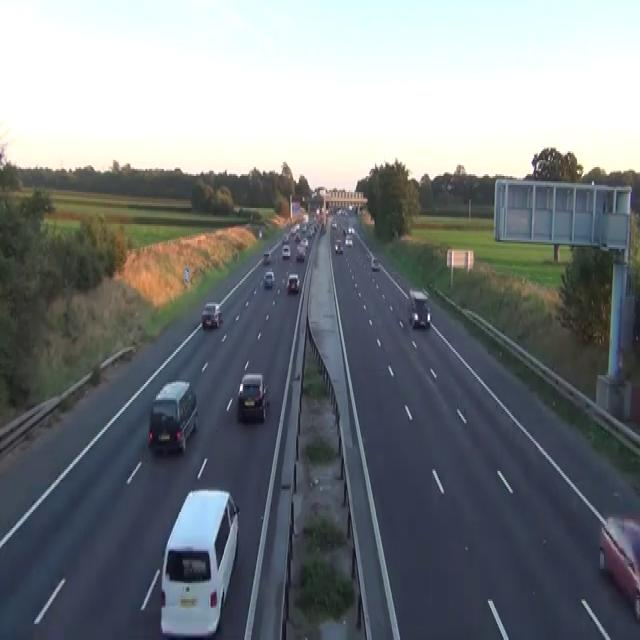Car: (159, 487, 239, 637), (598, 516, 639, 620), (148, 379, 198, 453), (237, 372, 268, 422), (408, 288, 430, 327), (201, 302, 222, 329), (286, 272, 299, 293), (263, 270, 274, 288), (296, 246, 305, 262), (290, 222, 300, 236), (43, 201, 56, 211), (334, 238, 343, 252), (281, 244, 290, 258), (371, 256, 379, 270), (300, 236, 308, 249), (263, 251, 270, 263), (345, 235, 353, 245), (282, 233, 289, 243), (331, 220, 337, 230), (301, 221, 307, 231), (446, 182, 453, 190), (321, 222, 326, 233), (233, 204, 239, 213), (294, 233, 300, 242), (347, 226, 354, 233), (258, 228, 262, 238), (342, 228, 346, 236), (325, 208, 328, 215)
